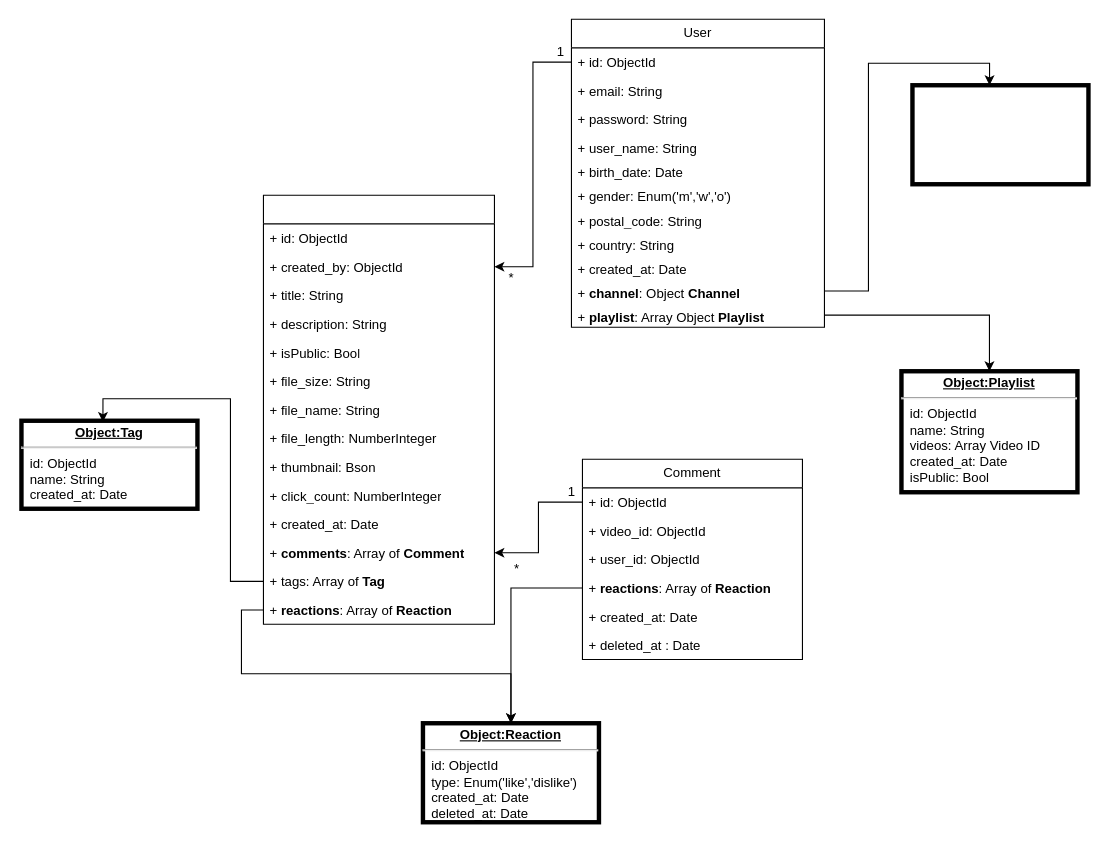
Image size: 1109x844. Some labels were removed from this diagram. Each missing label, with the box of its shape:
Object:Channel id: ObjectId name: String description: String created_at: Date: (910, 82, 1090, 186)
VIdeo: (262, 194, 494, 624)
